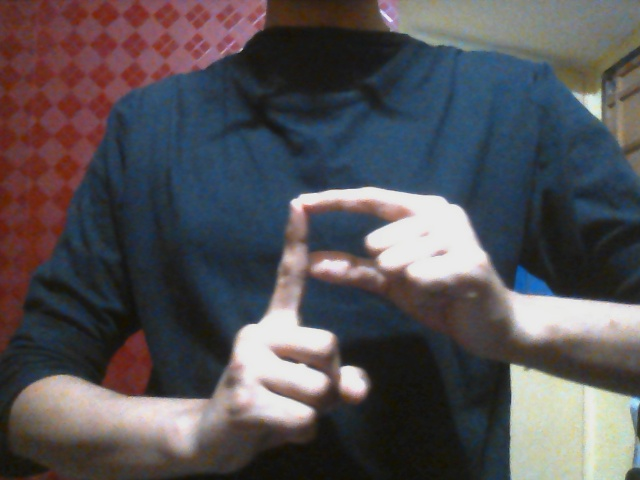P: (219, 186, 482, 446)
